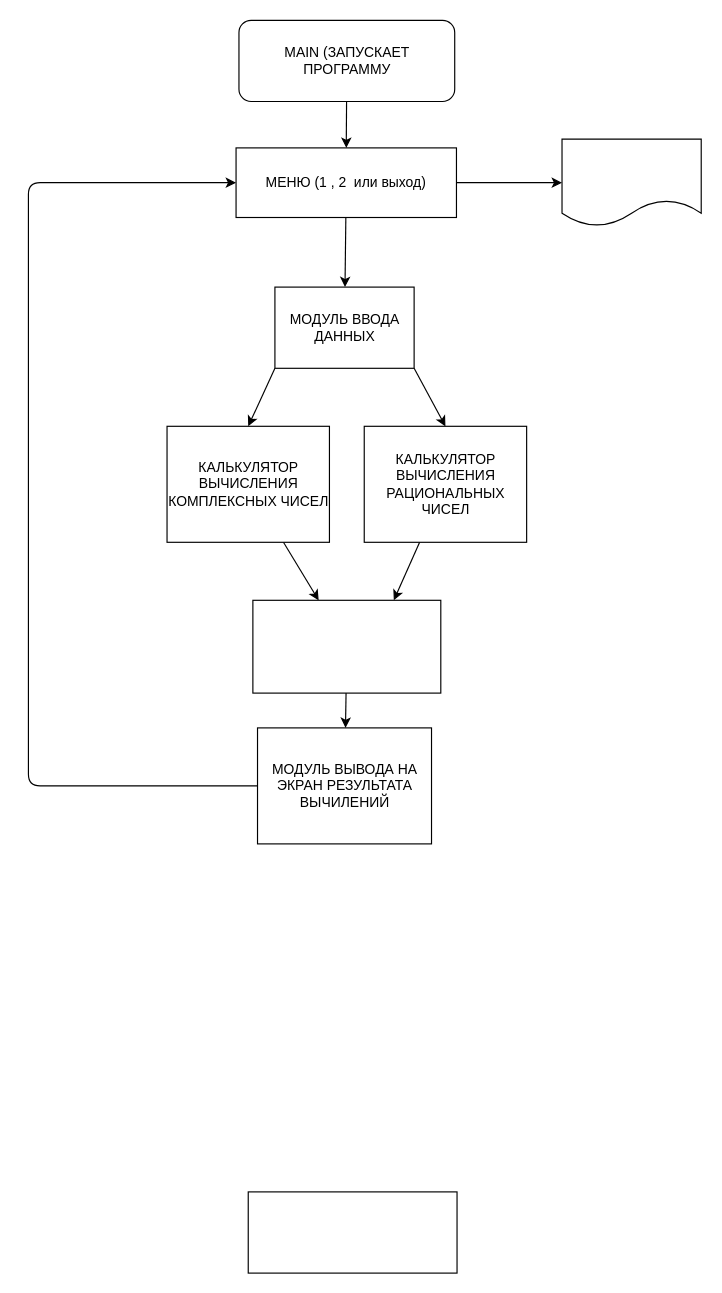
The diagram is 722 pixels wide and 1293 high, and some of its shapes have lost their labels. Here are the shapes that lost their labels. From the top down, the centre of each, then its label:
the point at 631,182: ВЫХОД
the point at 346,646: МОДУЛЬ ЛОГИРОВАНИЯ
the point at 352,1232: CONTROLLER (СОВМЕЩАЕТ В СЕБЕ ВСЕ МОДУЛИ)
